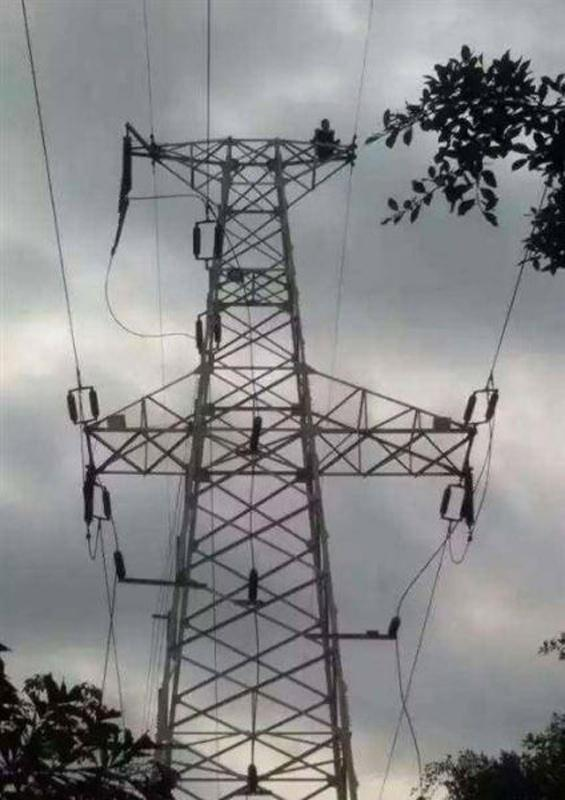power_tower: (60, 120, 423, 796)
